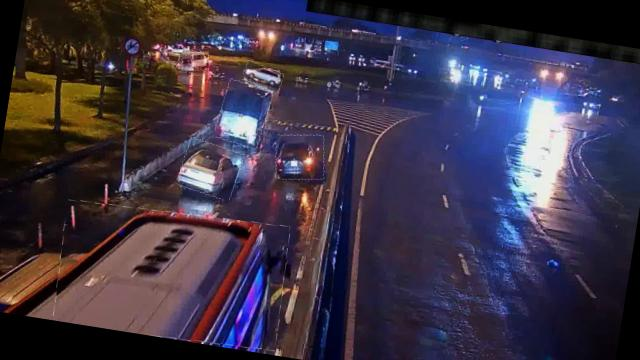Bus: (50, 194, 293, 354), (180, 49, 210, 73)
Car: (177, 138, 244, 200), (272, 130, 329, 184), (241, 61, 284, 90)
Truck: (215, 78, 272, 148)
